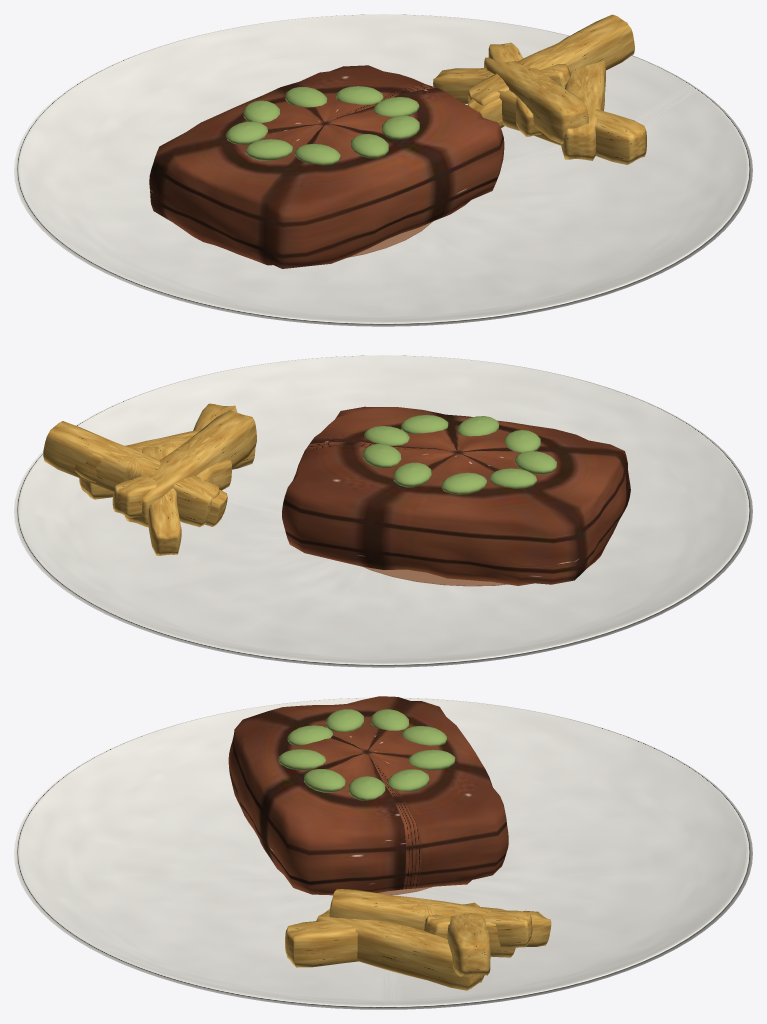
The model's file is lomo-parrilla.glb.
3 views of the same model, one above another, from view 1: azimuth 30°, elevation 25°; view 2: azimuth 150°, elevation 25°; view 3: azimuth 270°, elevation 25° (orthographic).
Bounding box in the file's own units: 0.27 × 0.052 × 0.27.
Materials: 5 (3 with a texture image).
